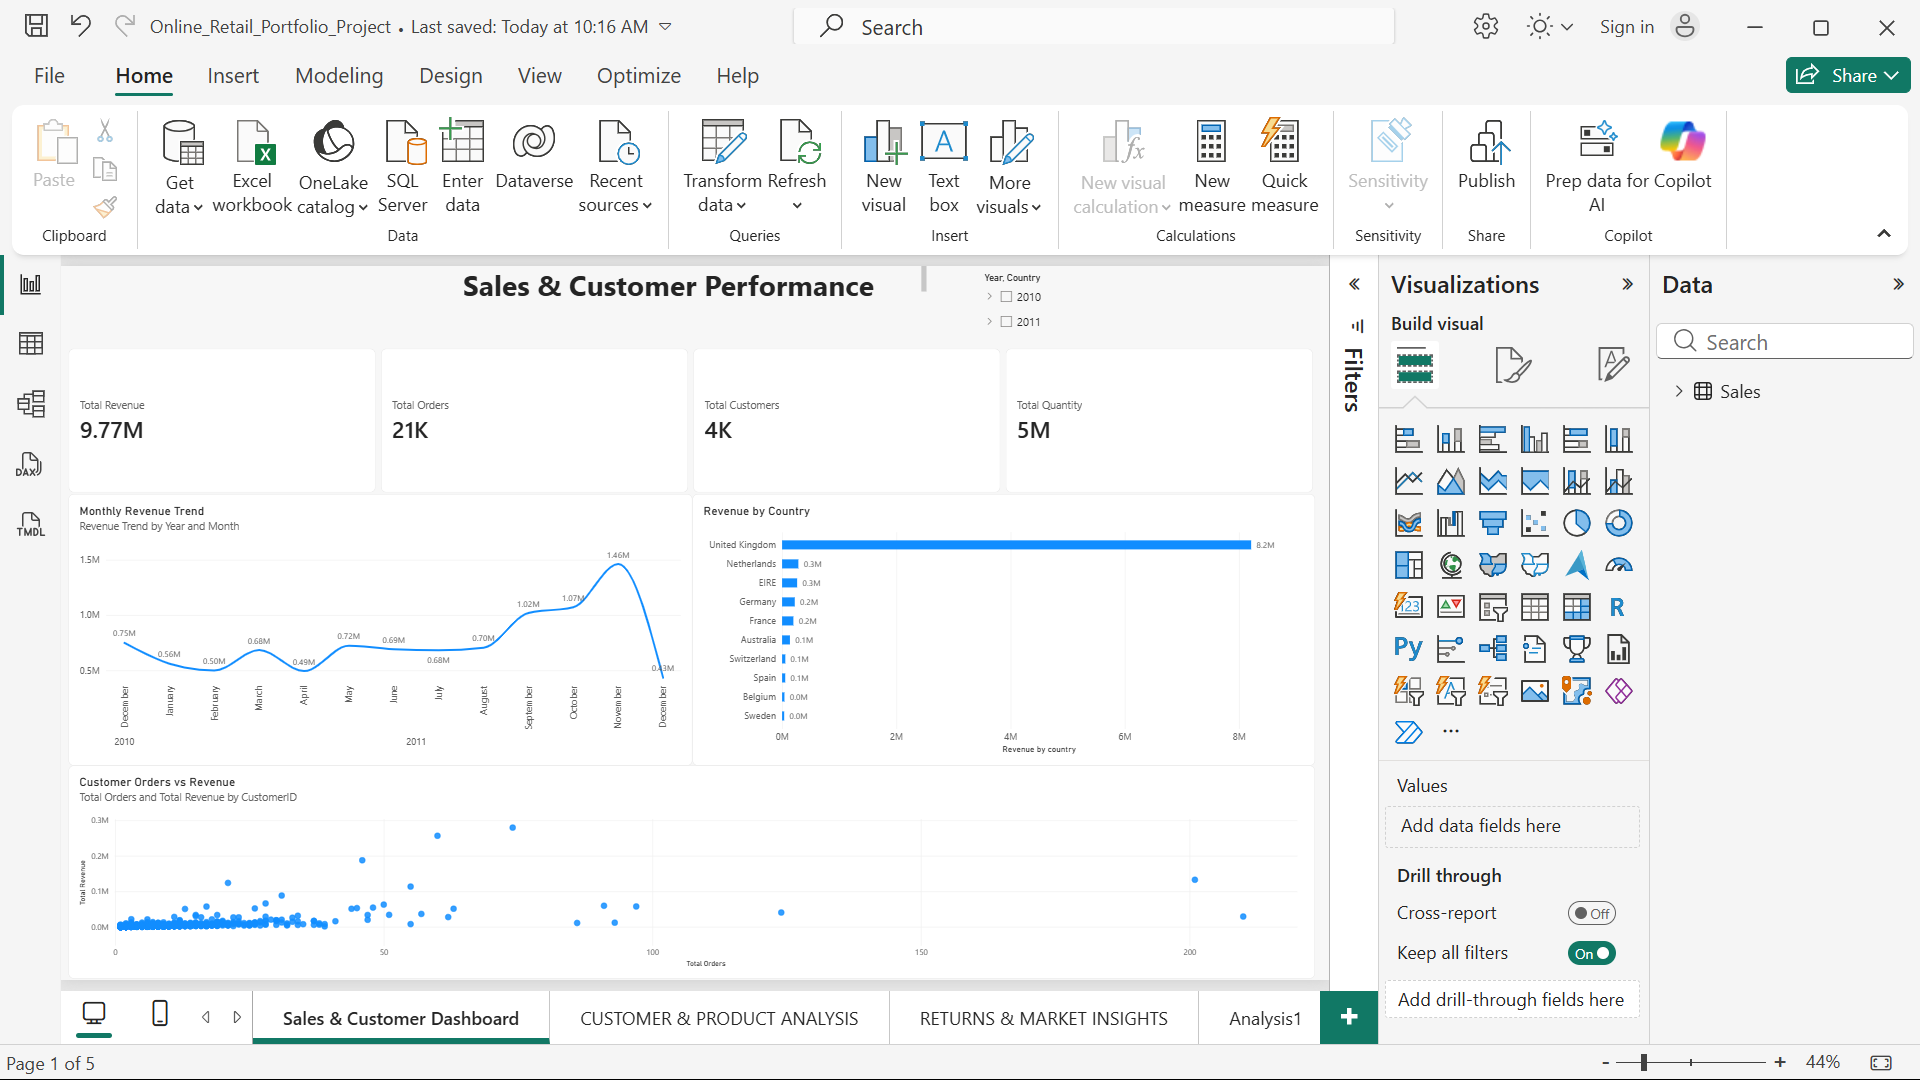

The dashboard page shown, as its layout file describes it:
{"tool":"powerbi","page":{"name":"Sales & Customer Dashboard","canvas":[1920,1080],"ordinal":0},"visuals":[{"type":"cardVisual","fields":{"Data":["Sales.Total Revenue","Sales.Total Orders","Sales.Total Customers","Sum(Sales.Quantity)"]},"box":[11.4,124.9,1887.5,218],"z":0},{"type":"lineChart","title":"Monthly Revenue Trend","fields":{"Category":["Sales.Year","Sales.Month Name"],"Y":["Sales.Total Revenue"]},"box":[11.4,345.2,944.9,411.1],"z":1000},{"type":"barChart","title":"Revenue by Country","fields":{"Category":["Sales.Country"],"Y":["Sales.Total Revenue"]},"box":[956.2,345.2,942.6,411.1],"z":2000},{"type":"scatterChart","title":"Customer Orders vs Revenue","fields":{"Category":["Sales.CustomerID"],"X":["Sales.Total Orders"],"Y":["Sales.Total Revenue"]},"box":[11.4,756.3,1887.5,322.5],"z":3000},{"type":"textbox","box":[608.9,0,701.8,65.9],"z":4000},{"type":"slicer","fields":{"Values":["Sales.Year","Sales.Country"]},"box":[1390.8,9.5,170.6,97.1],"z":5000}]}

Visuals, with their boxes on the page's 1920x1080 design canvas (x1, y1, x2, y2). These are canvas units, not pixel positions in the 1920x1080 screenshot, which may show the page scaled, cropped or inside an application window:
cardVisual - Sales.Total Revenue x Sales.Total Orders: 11 125 1899 343
"Monthly Revenue Trend" lineChart: 11 345 956 756
"Revenue by Country" barChart: 956 345 1899 756
"Customer Orders vs Revenue" scatterChart: 11 756 1899 1079
textbox: 609 0 1311 66
slicer - Sales.Year x Sales.Country: 1391 10 1561 107
